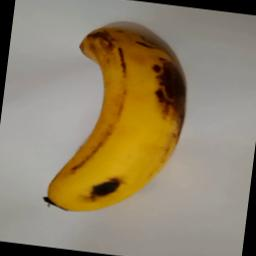Banana Unripe: (42, 21, 193, 225)
